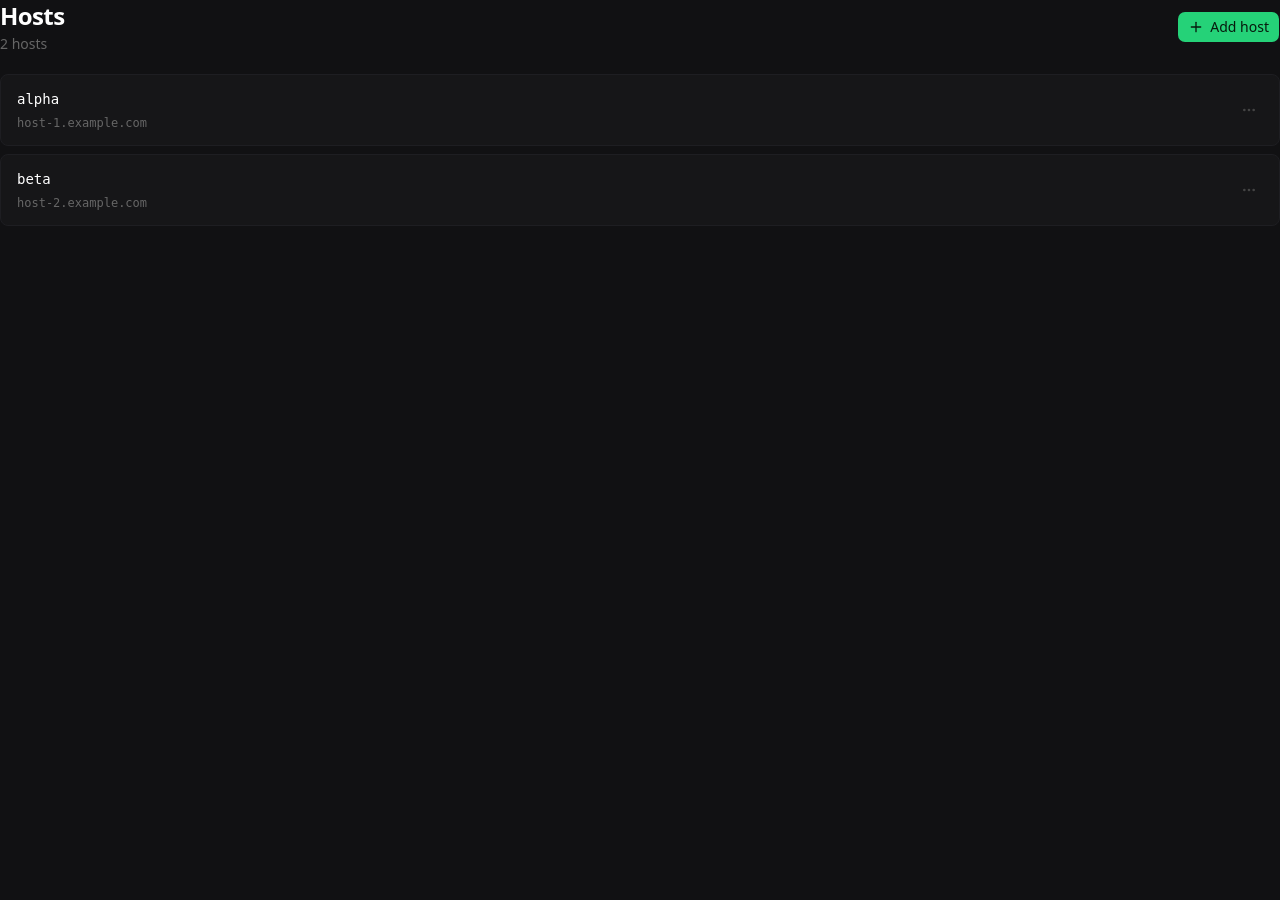
it: hosts page delete flow › asks for confirmation before deleting a host
The image size is (1280, 900).
Expected: the number of list items is 2, [0, 74, 1279, 146]; [0, 154, 1279, 226]
Step 1. Click the button named "Actions for alpha" → coordinates (1249, 110), box [1235, 96, 1263, 124]
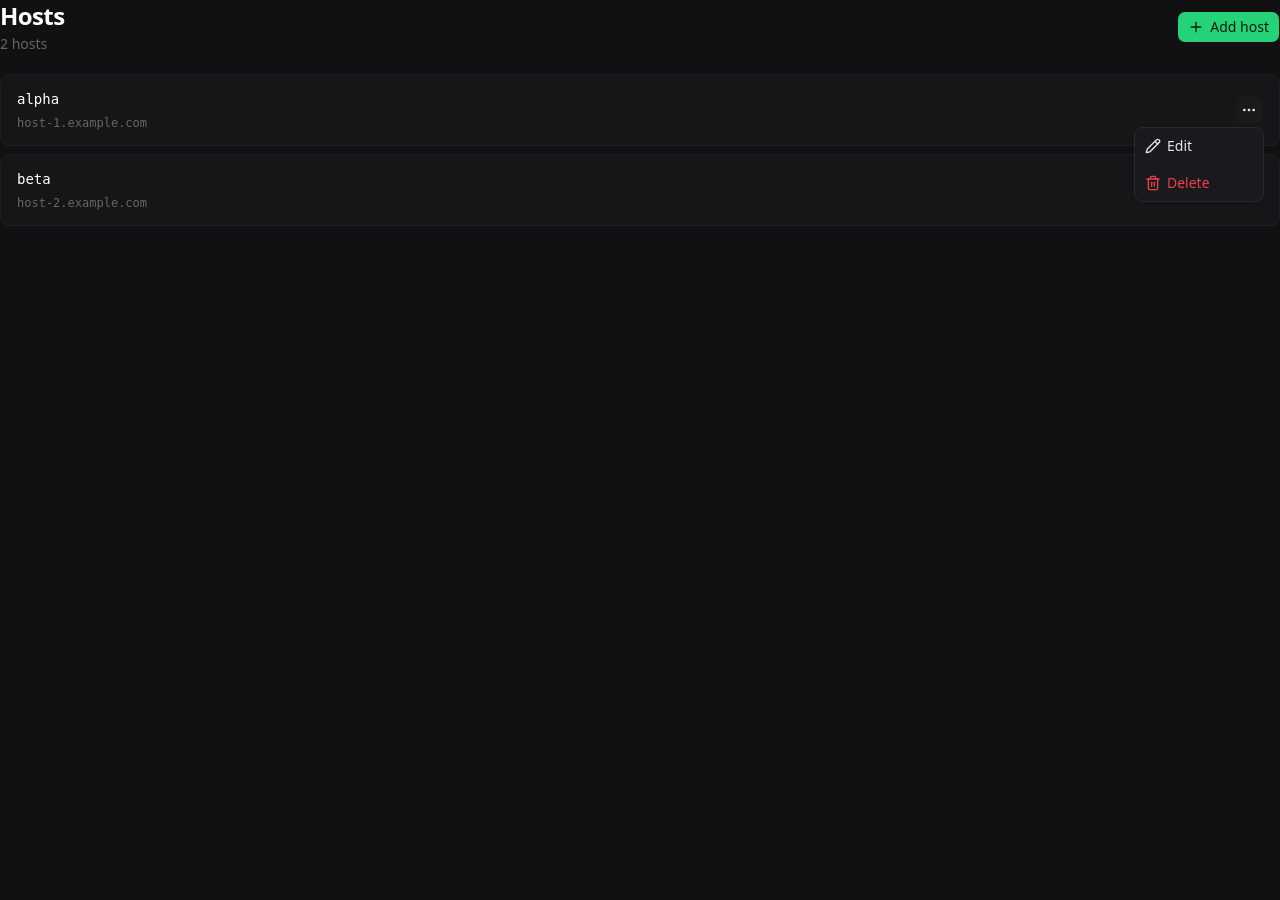
Step 2. Click the menu item "Delete" → coordinates (1177, 182), box [1145, 173, 1210, 192]
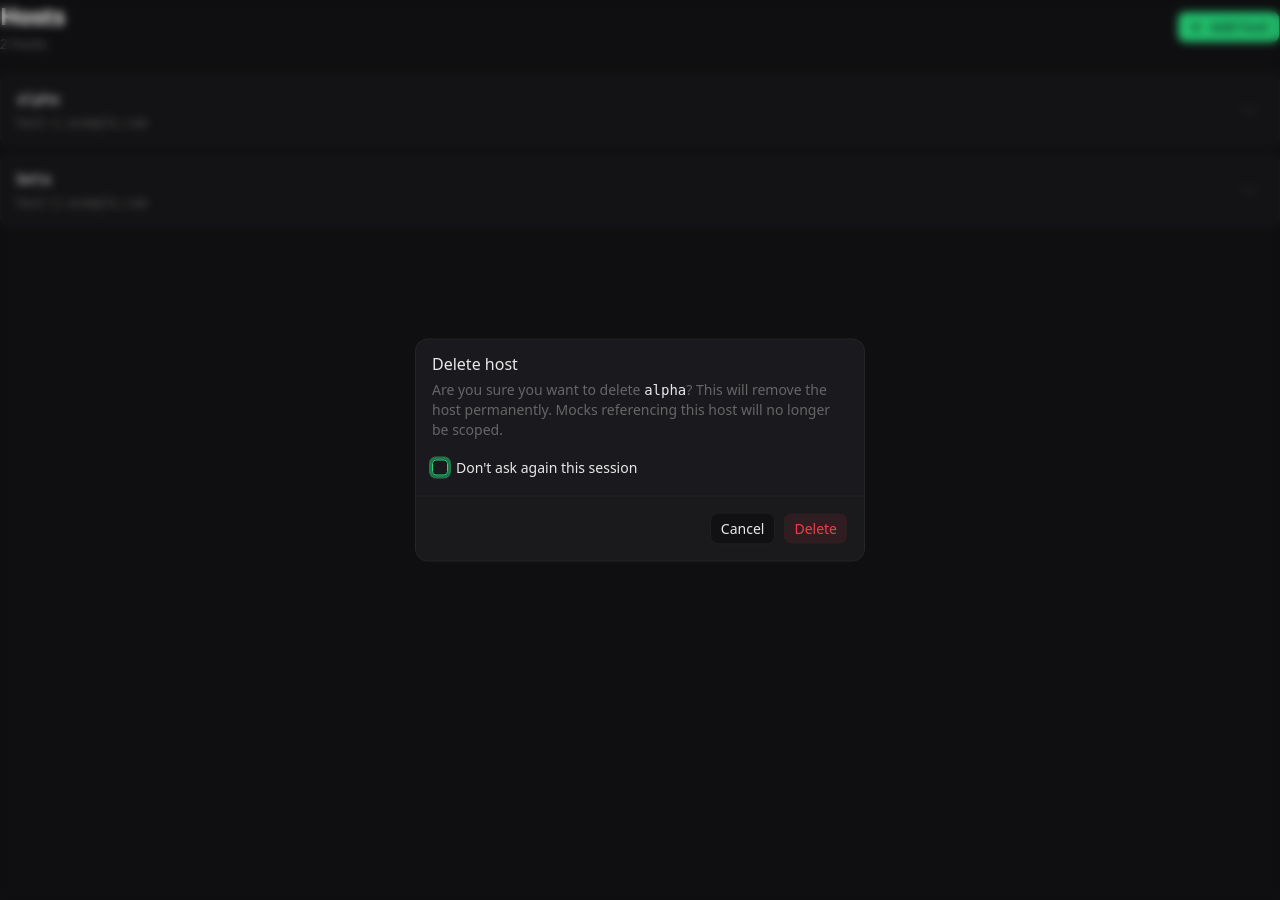
Expected: the dialog shows "Delete host", [432, 352, 518, 374]
Expected: the dialog shows "alpha", [644, 382, 686, 398]
Step 3. Click the button with aria-label "Confirm deletion of alpha" → coordinates (816, 528), box [783, 512, 848, 544]
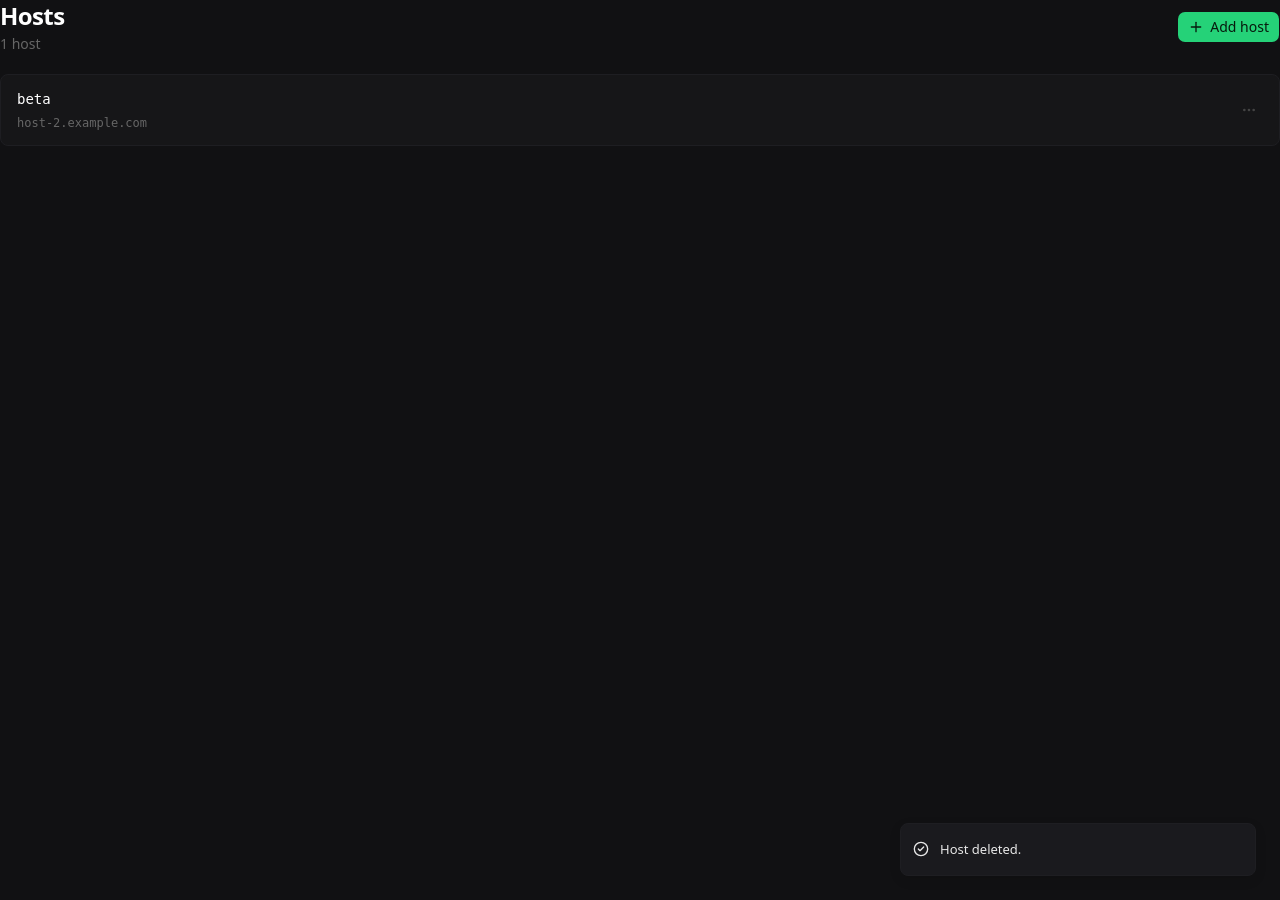
Expected: the text "Host deleted." is shown, [940, 840, 1021, 859]
